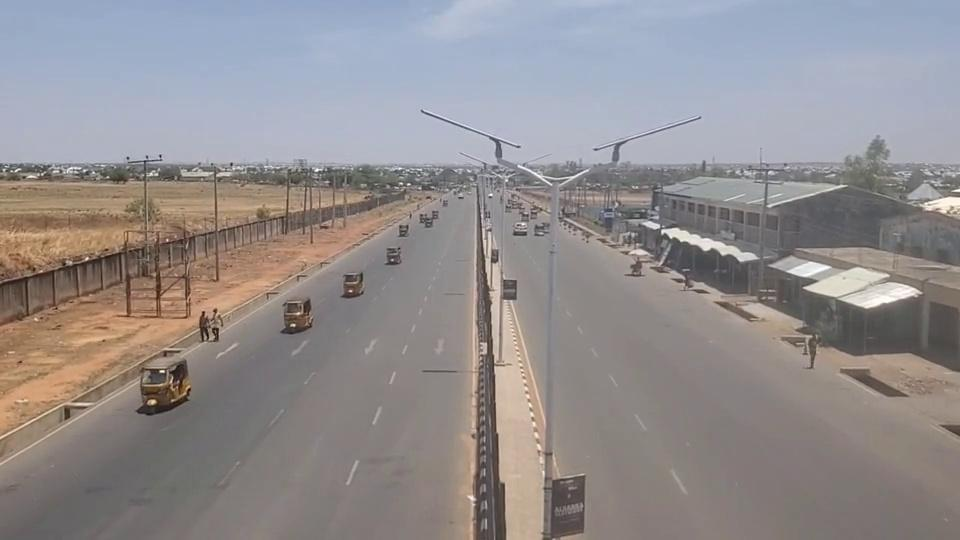car: (513, 222, 528, 235)
keke: (138, 349, 191, 411), (282, 296, 313, 331), (342, 270, 364, 296), (385, 247, 402, 265), (534, 222, 546, 236), (398, 224, 409, 237), (424, 216, 433, 227), (521, 212, 530, 221), (530, 209, 537, 220), (442, 199, 449, 206), (506, 205, 512, 213), (458, 194, 464, 199)
